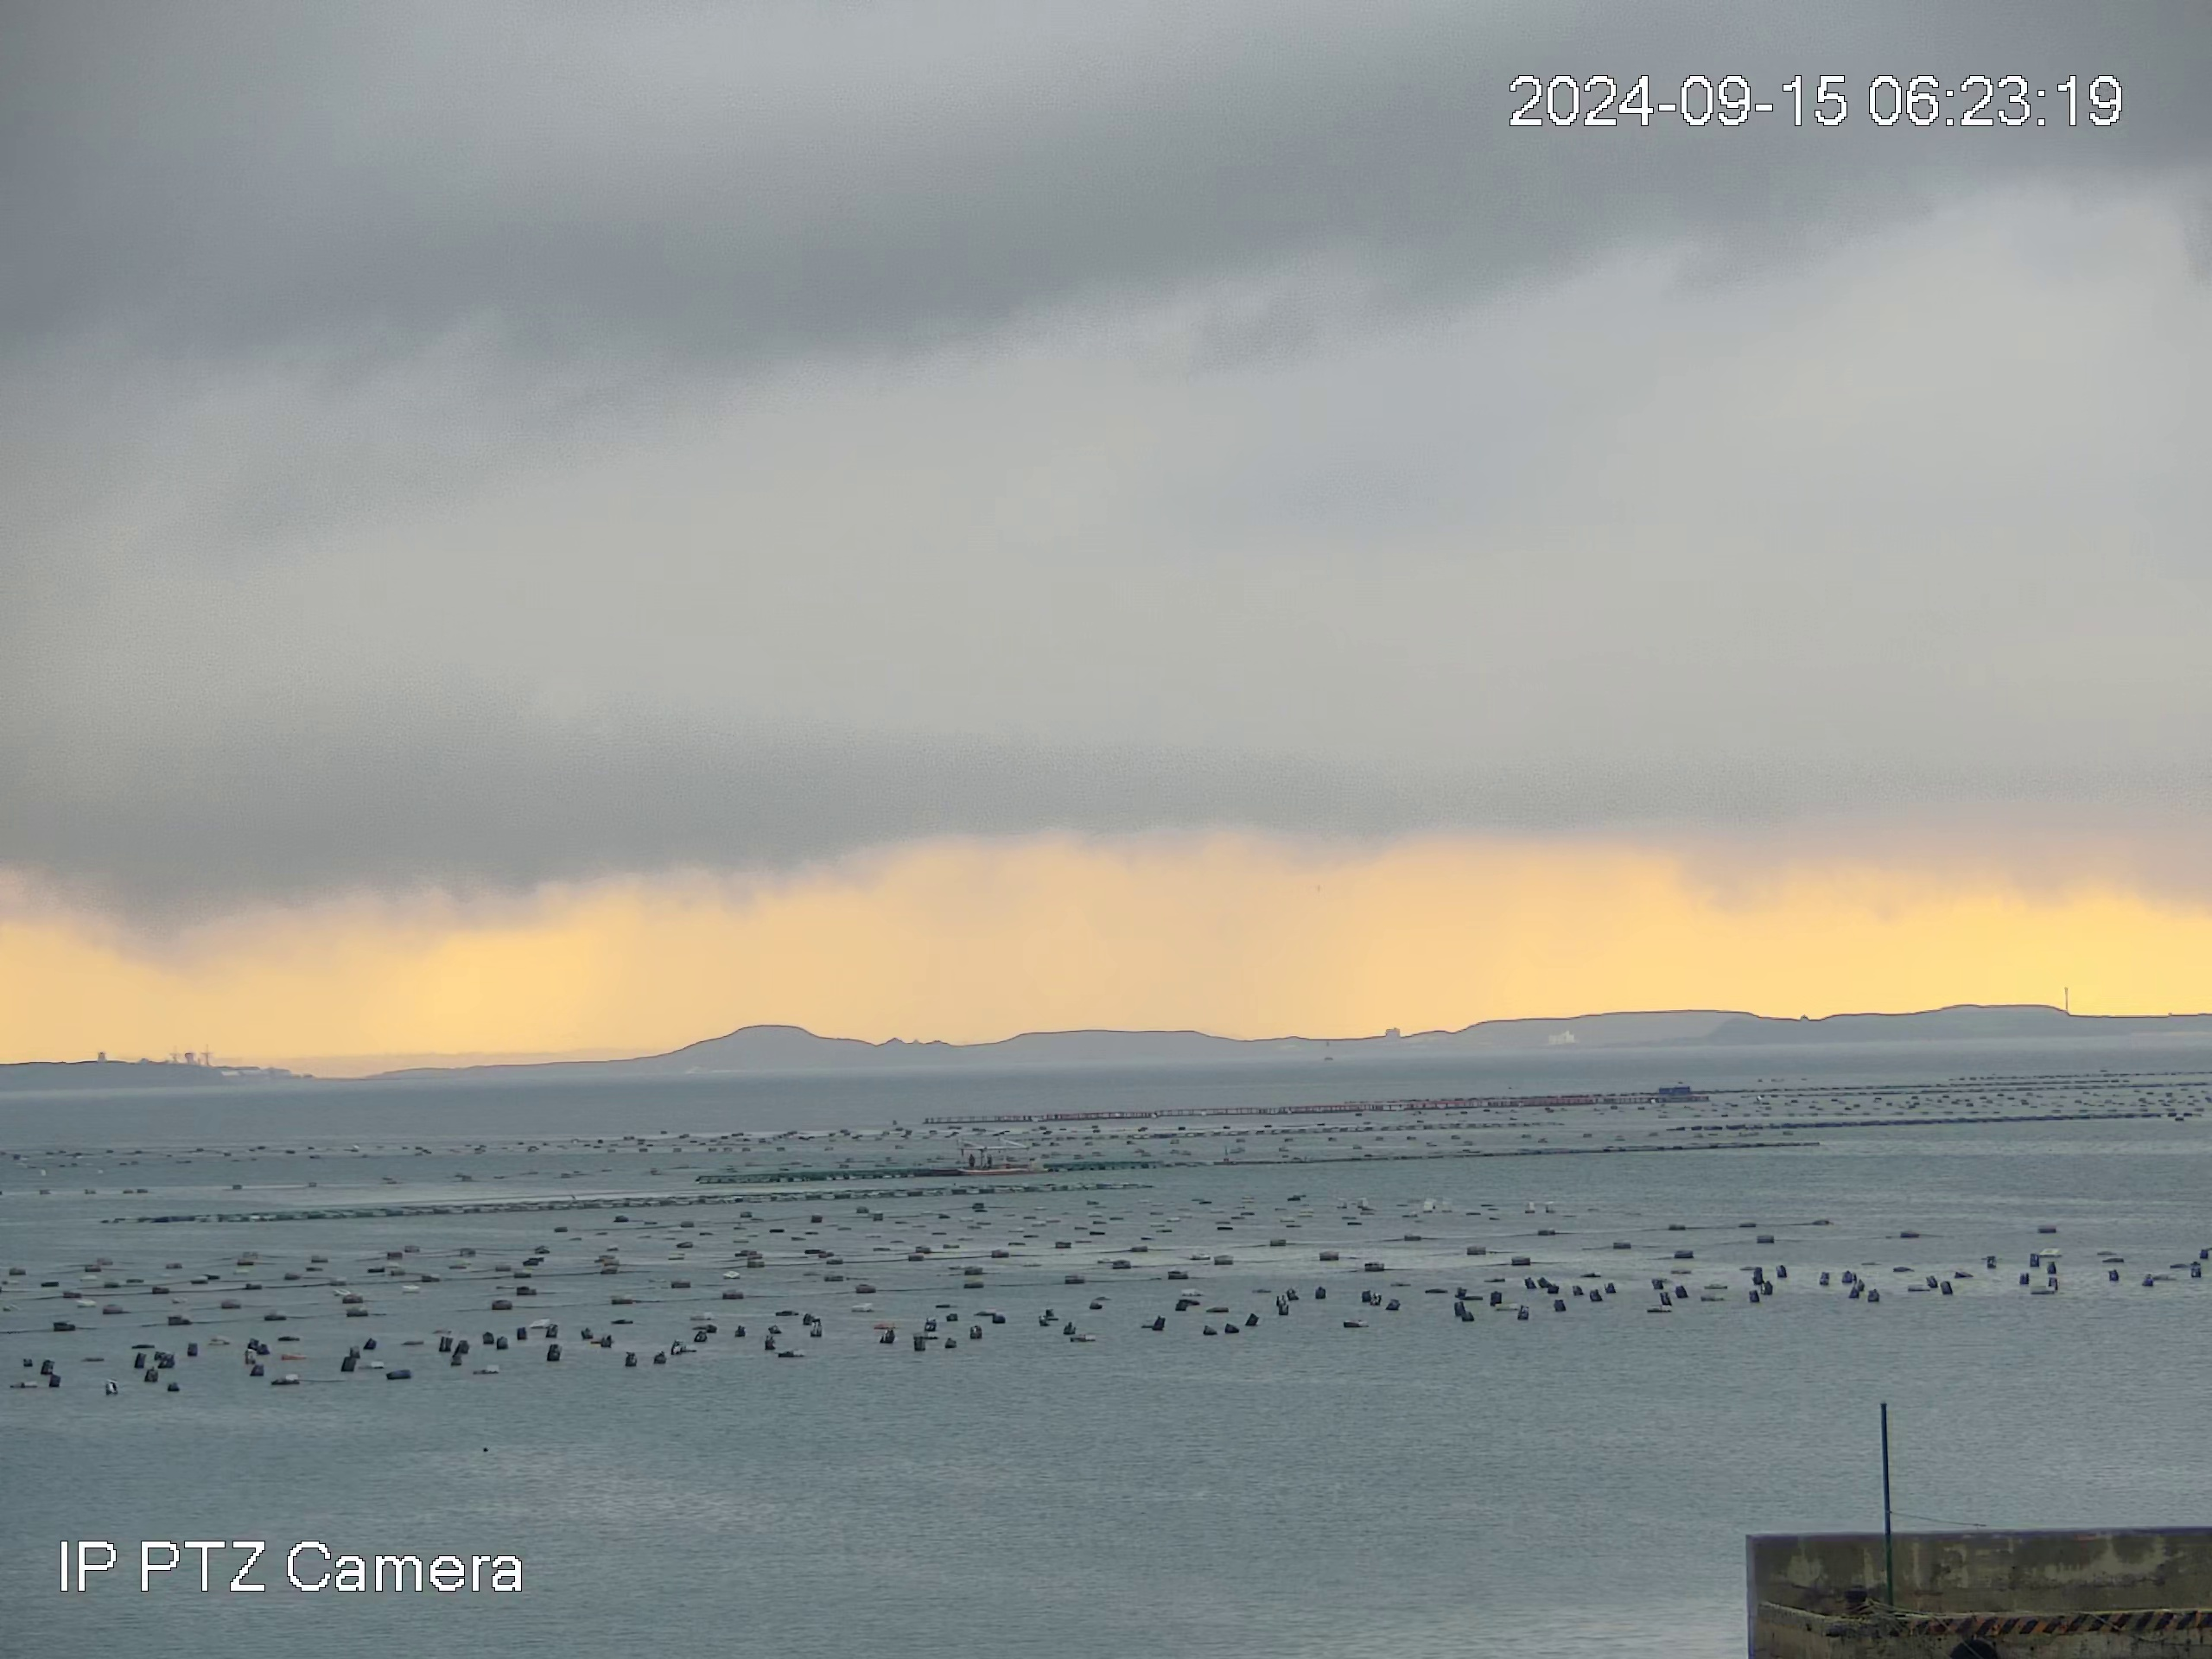boat: (960, 1135, 1048, 1178)
